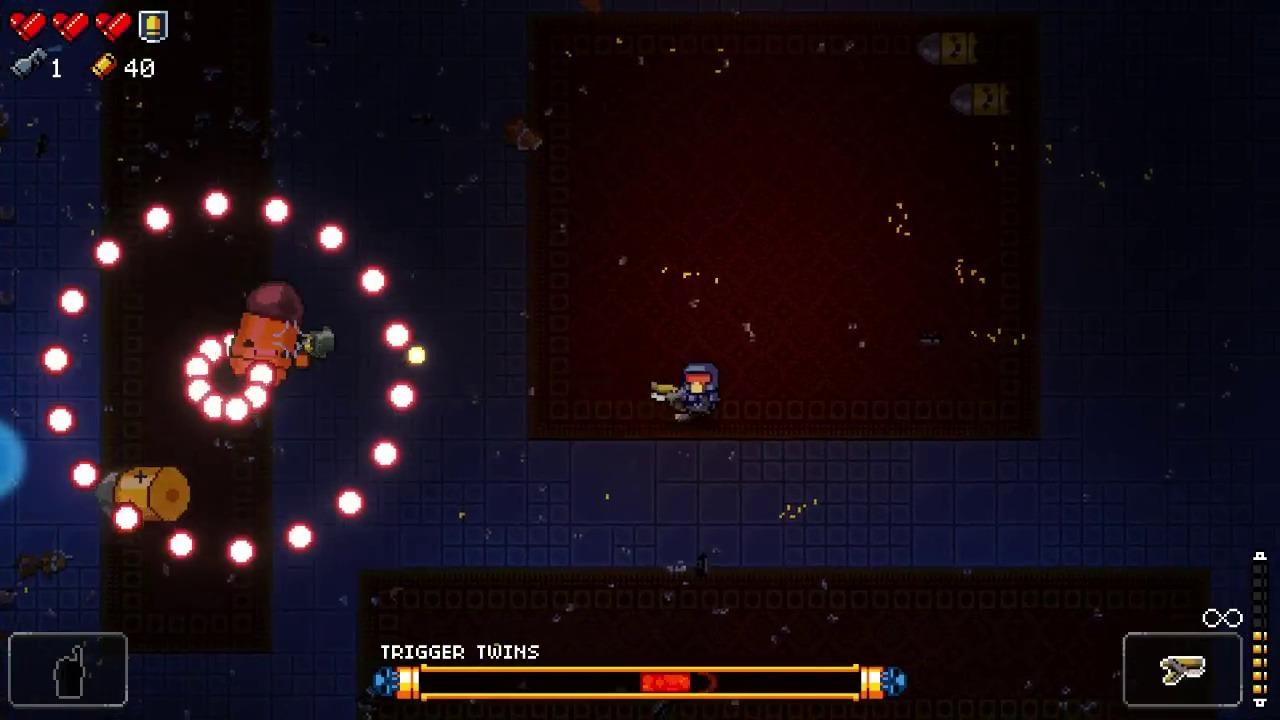boss_smiley: (238, 282, 304, 382)
bullet: (368, 439, 402, 470), (315, 223, 346, 255), (40, 346, 71, 378), (67, 459, 99, 489), (111, 503, 141, 535), (381, 319, 414, 348), (59, 287, 88, 319), (359, 266, 388, 297), (261, 196, 290, 227), (91, 238, 121, 267), (48, 403, 75, 435), (285, 525, 317, 552), (240, 384, 272, 411), (335, 489, 364, 518), (166, 532, 196, 560), (228, 538, 256, 568), (183, 353, 211, 383), (196, 335, 224, 365), (222, 397, 251, 425), (144, 204, 171, 233), (186, 376, 213, 405), (388, 383, 415, 411), (201, 192, 229, 219), (201, 394, 227, 422), (248, 364, 273, 389)
bullet_kin: (917, 33, 978, 65)
dead_boss_shades: (96, 468, 190, 523)
dead_bullet_kin: (950, 85, 1010, 118)
player: (681, 362, 719, 416)
